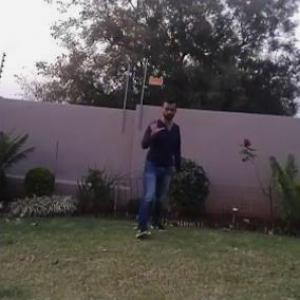follow_hand: (145, 111, 167, 137)
